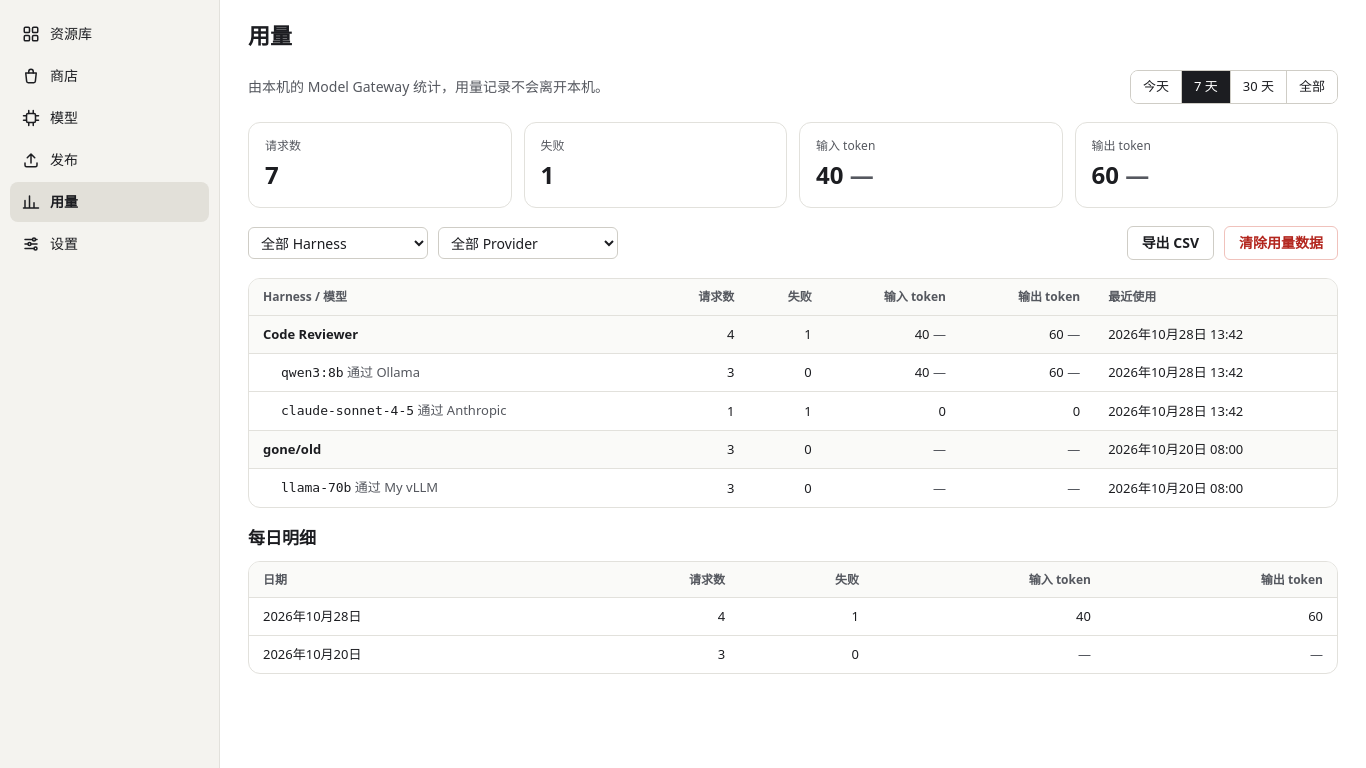
it: Usage page in zh-CN › shows its copy in Simplified Chinese
The image size is (1366, 768).
expect the heading "用量" is shown: met, box left=248, top=20, right=292, bottom=50
expect the text "由本机的 Model Gateway 统计，用量记录不会离开本机。" is shown: met, box left=248, top=77, right=609, bottom=97
Click the button "清除用量数据" at (1281,243), box left=1224, top=226, right=1338, bottom=260
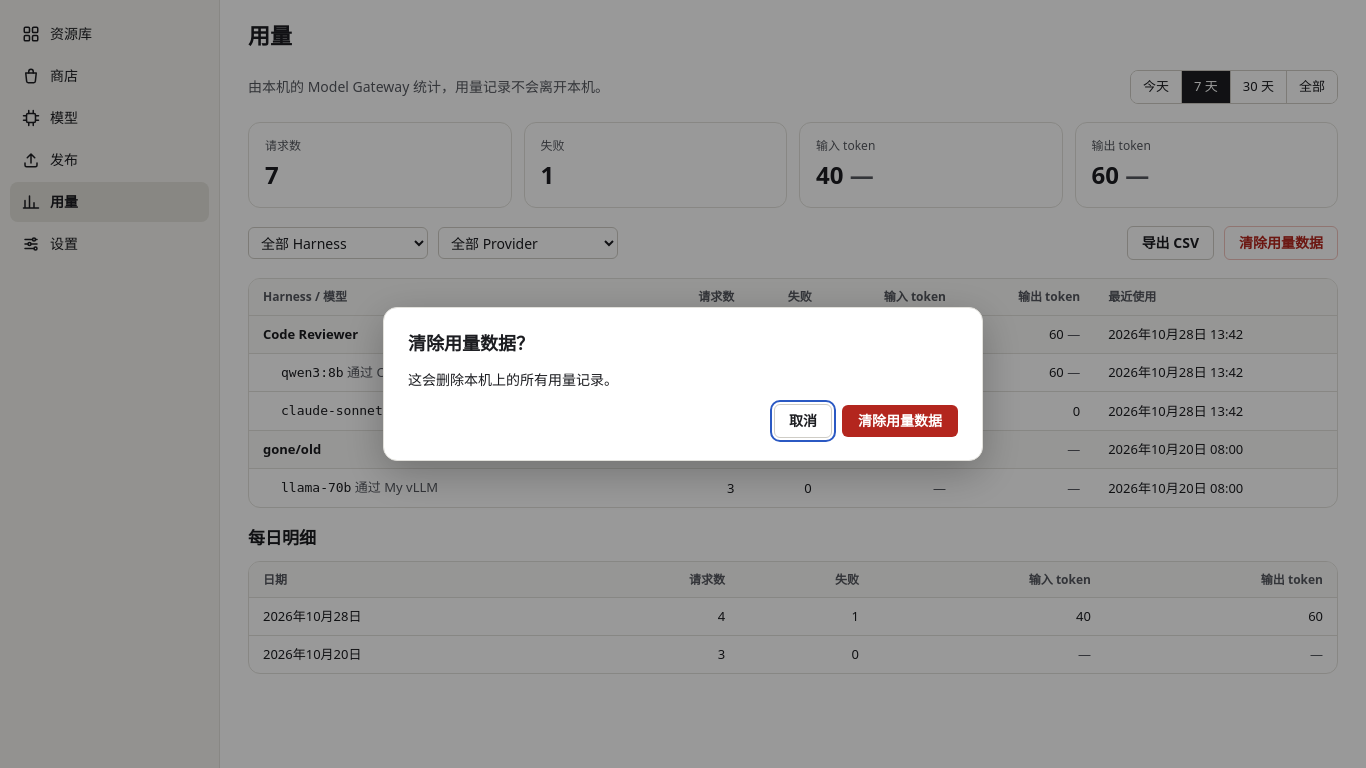
expect the text "这会删除本机上的所有用量记录。" is shown: met, box left=408, top=370, right=618, bottom=389
expect the button "取消" is shown: met, box left=774, top=404, right=832, bottom=438
